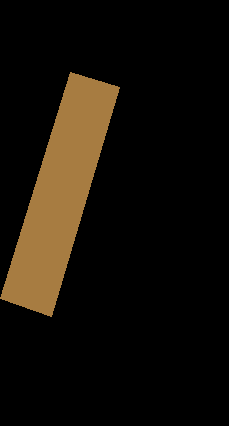parkingspot: (0, 72, 119, 316)
